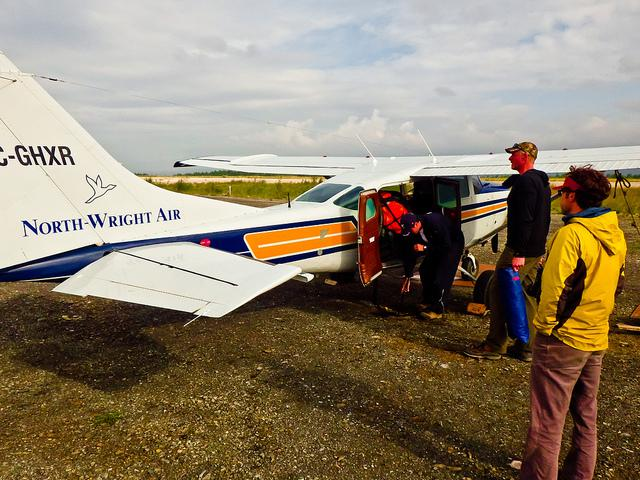Airplane: (0, 47, 639, 329)
